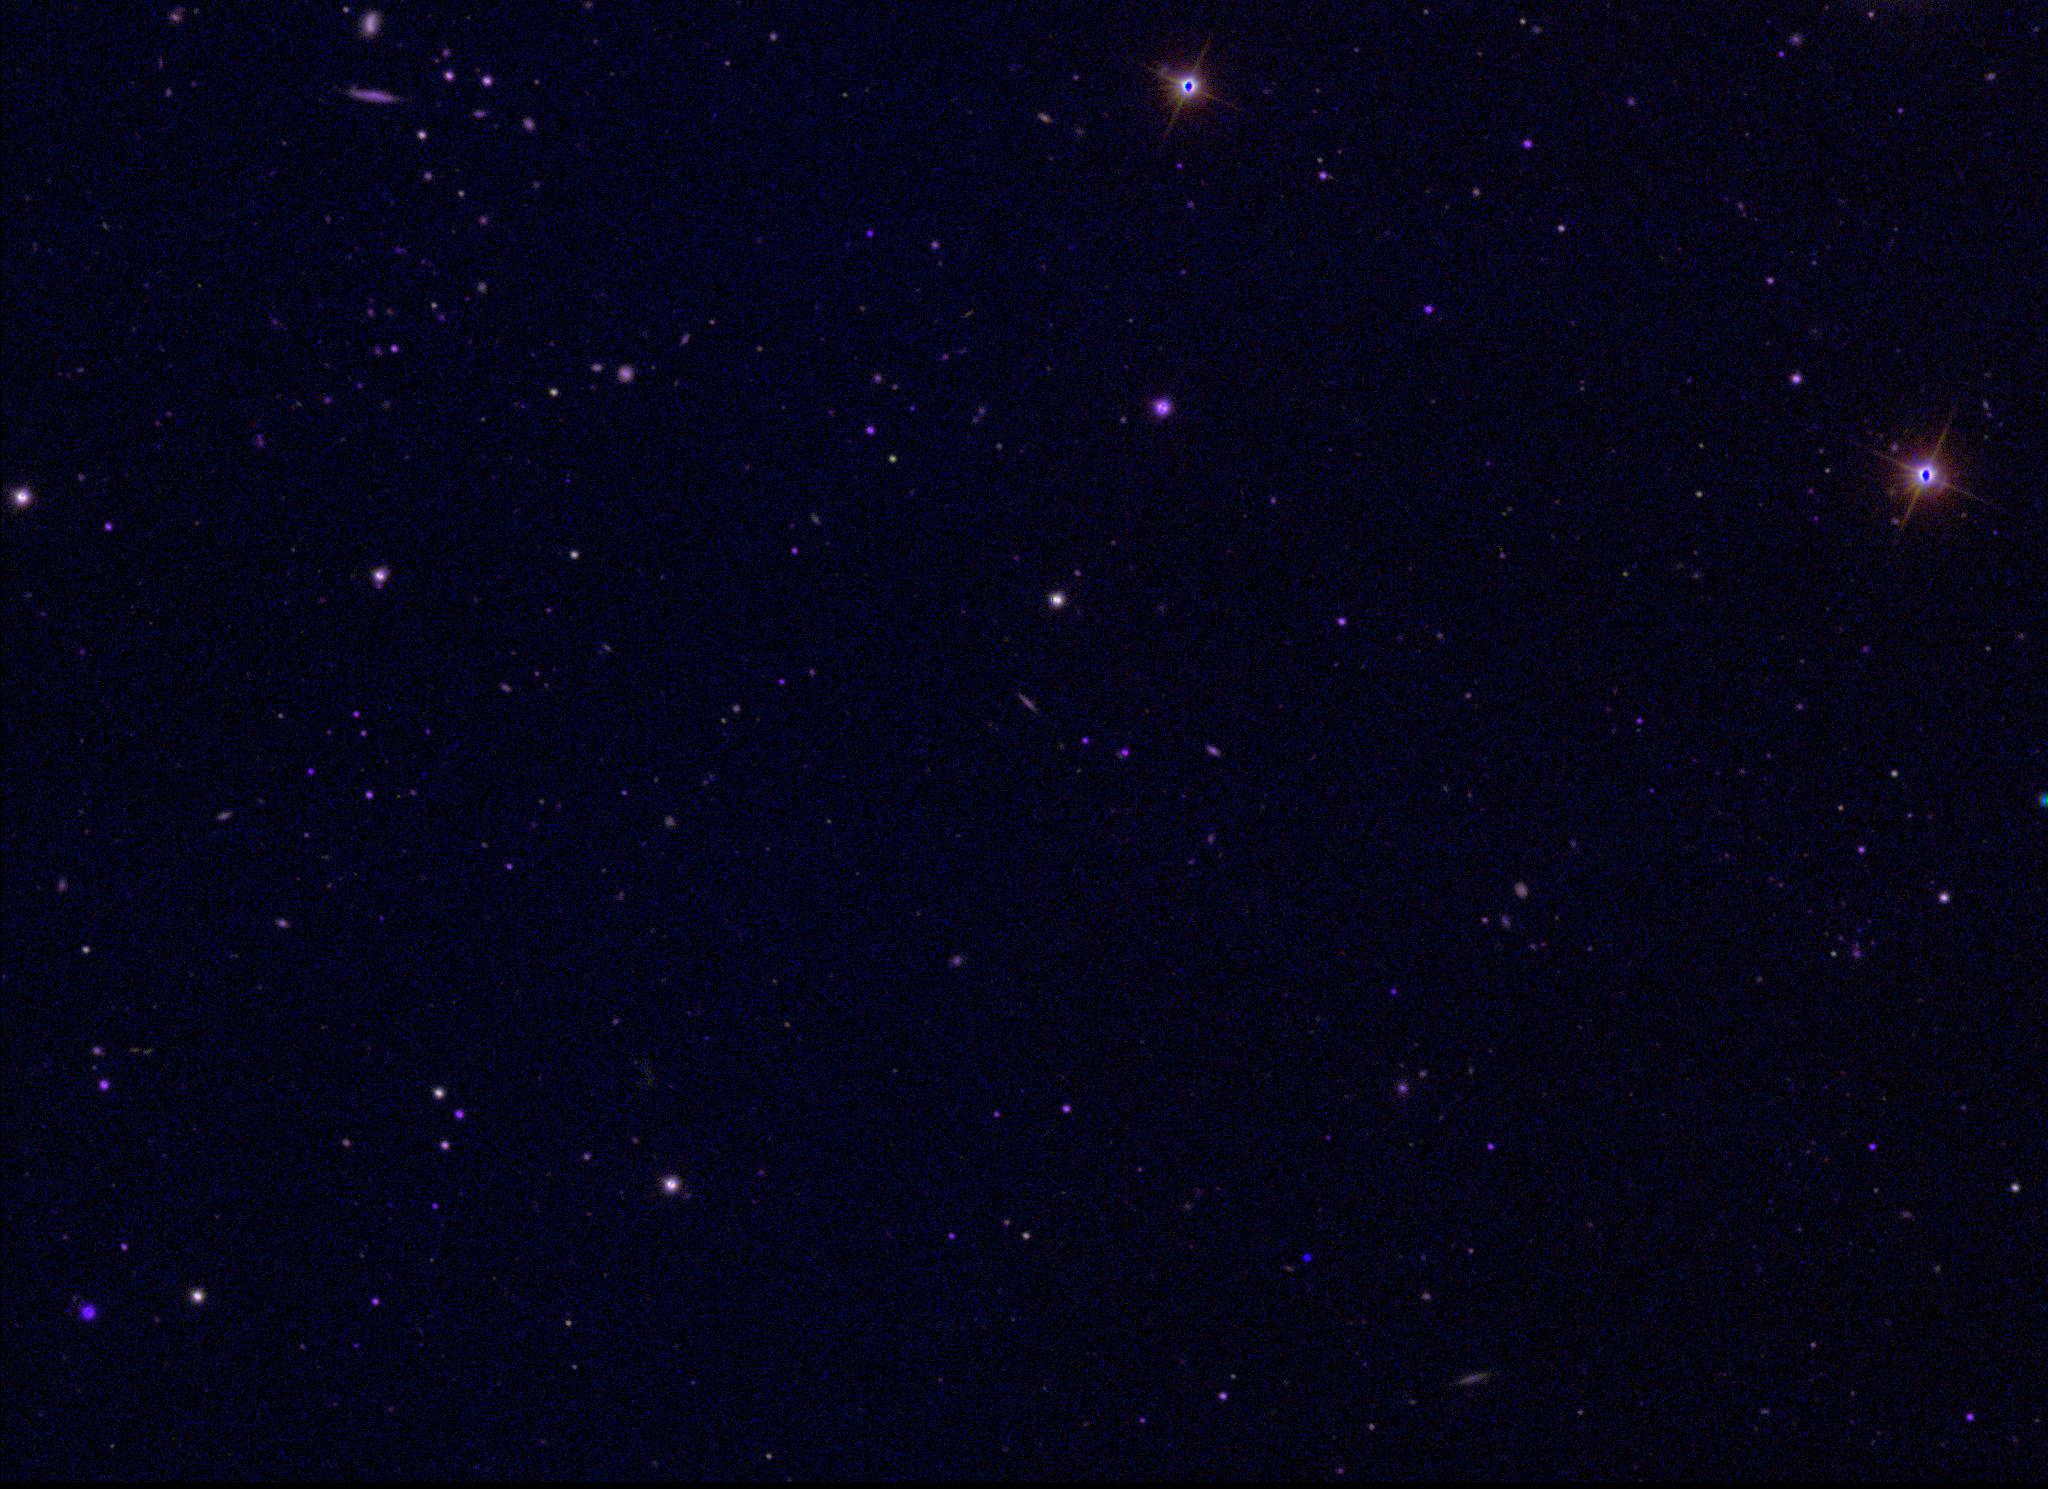L: (1302, 1249, 1317, 1262)
